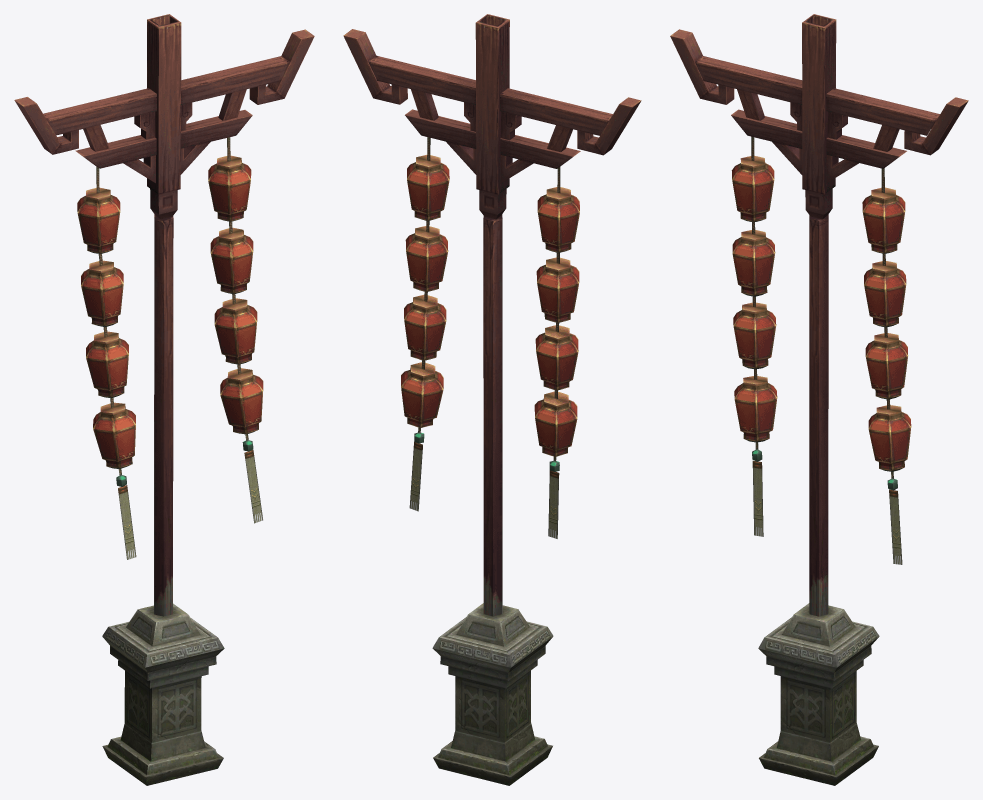
File: ss_denglong_1.FBX
3 renders of one model, left to right at view 1: azimuth 30°, elevation 25°; view 2: azimuth 150°, elevation 25°; view 3: azimuth 330°, elevation 25°, orthographic.
Visible parts, largest first — view 1: ss_denglong_1; view 2: ss_denglong_1; view 3: ss_denglong_1.
Part boxes in pixels (left/top/right/bottom): ss_denglong_1: left=14, top=14, right=314, bottom=785; ss_denglong_1: left=343, top=14, right=641, bottom=785; ss_denglong_1: left=670, top=14, right=968, bottom=785.
Size of the model in its own units: 222 by 543 by 57.21.
